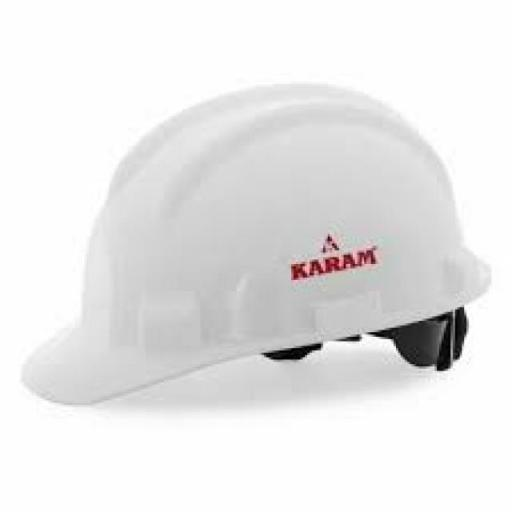helmet: (32, 70, 496, 378)
